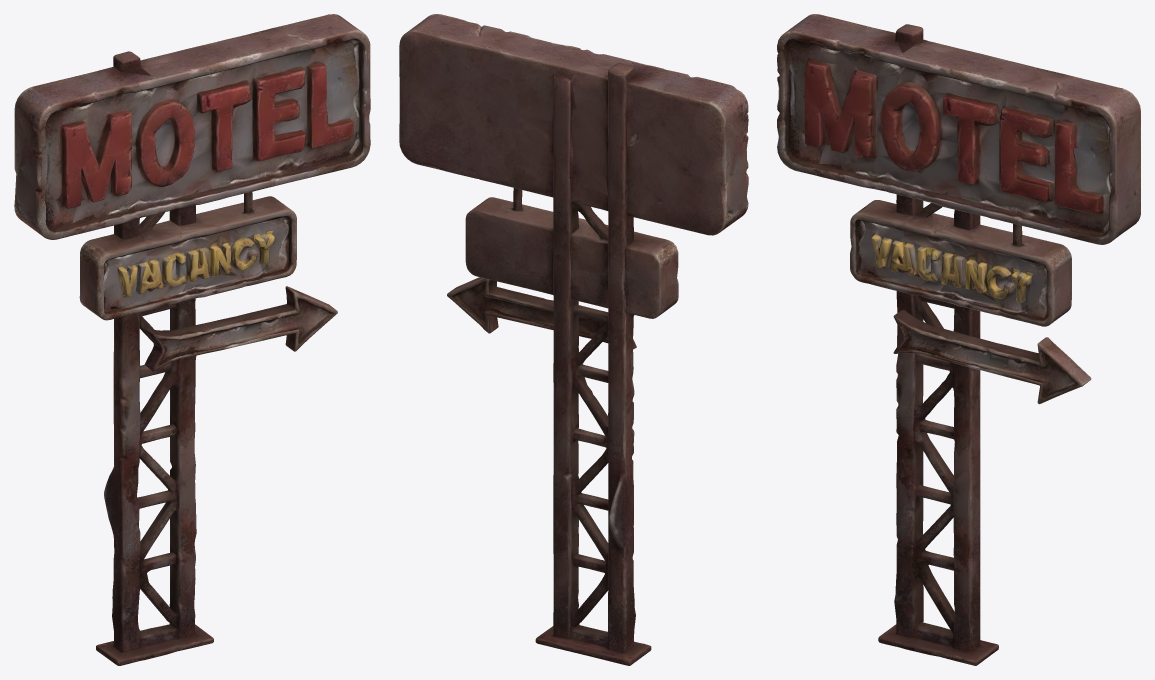
File: sign_motel_idle.glb
3 renders of one model, left to right at view 1: azimuth 30°, elevation 25°; view 2: azimuth 150°, elevation 25°; view 3: azimuth 330°, elevation 25°, orthographic. The views are drawn at different scales.
Visible parts, largest first — view 1: tripo_node_2be179e6-1ff5-485e-aa4a-aeadfad0a879; view 2: tripo_node_2be179e6-1ff5-485e-aa4a-aeadfad0a879; view 3: tripo_node_2be179e6-1ff5-485e-aa4a-aeadfad0a879.
Boxes of the visible parts, x1,y1,x2,y2 form: tripo_node_2be179e6-1ff5-485e-aa4a-aeadfad0a879: (14,14,370,665); tripo_node_2be179e6-1ff5-485e-aa4a-aeadfad0a879: (399,14,748,665); tripo_node_2be179e6-1ff5-485e-aa4a-aeadfad0a879: (777,14,1140,665).
Size of the model in its own units: 3.49 by 6 by 0.7019.
1 material, 1 textured.
